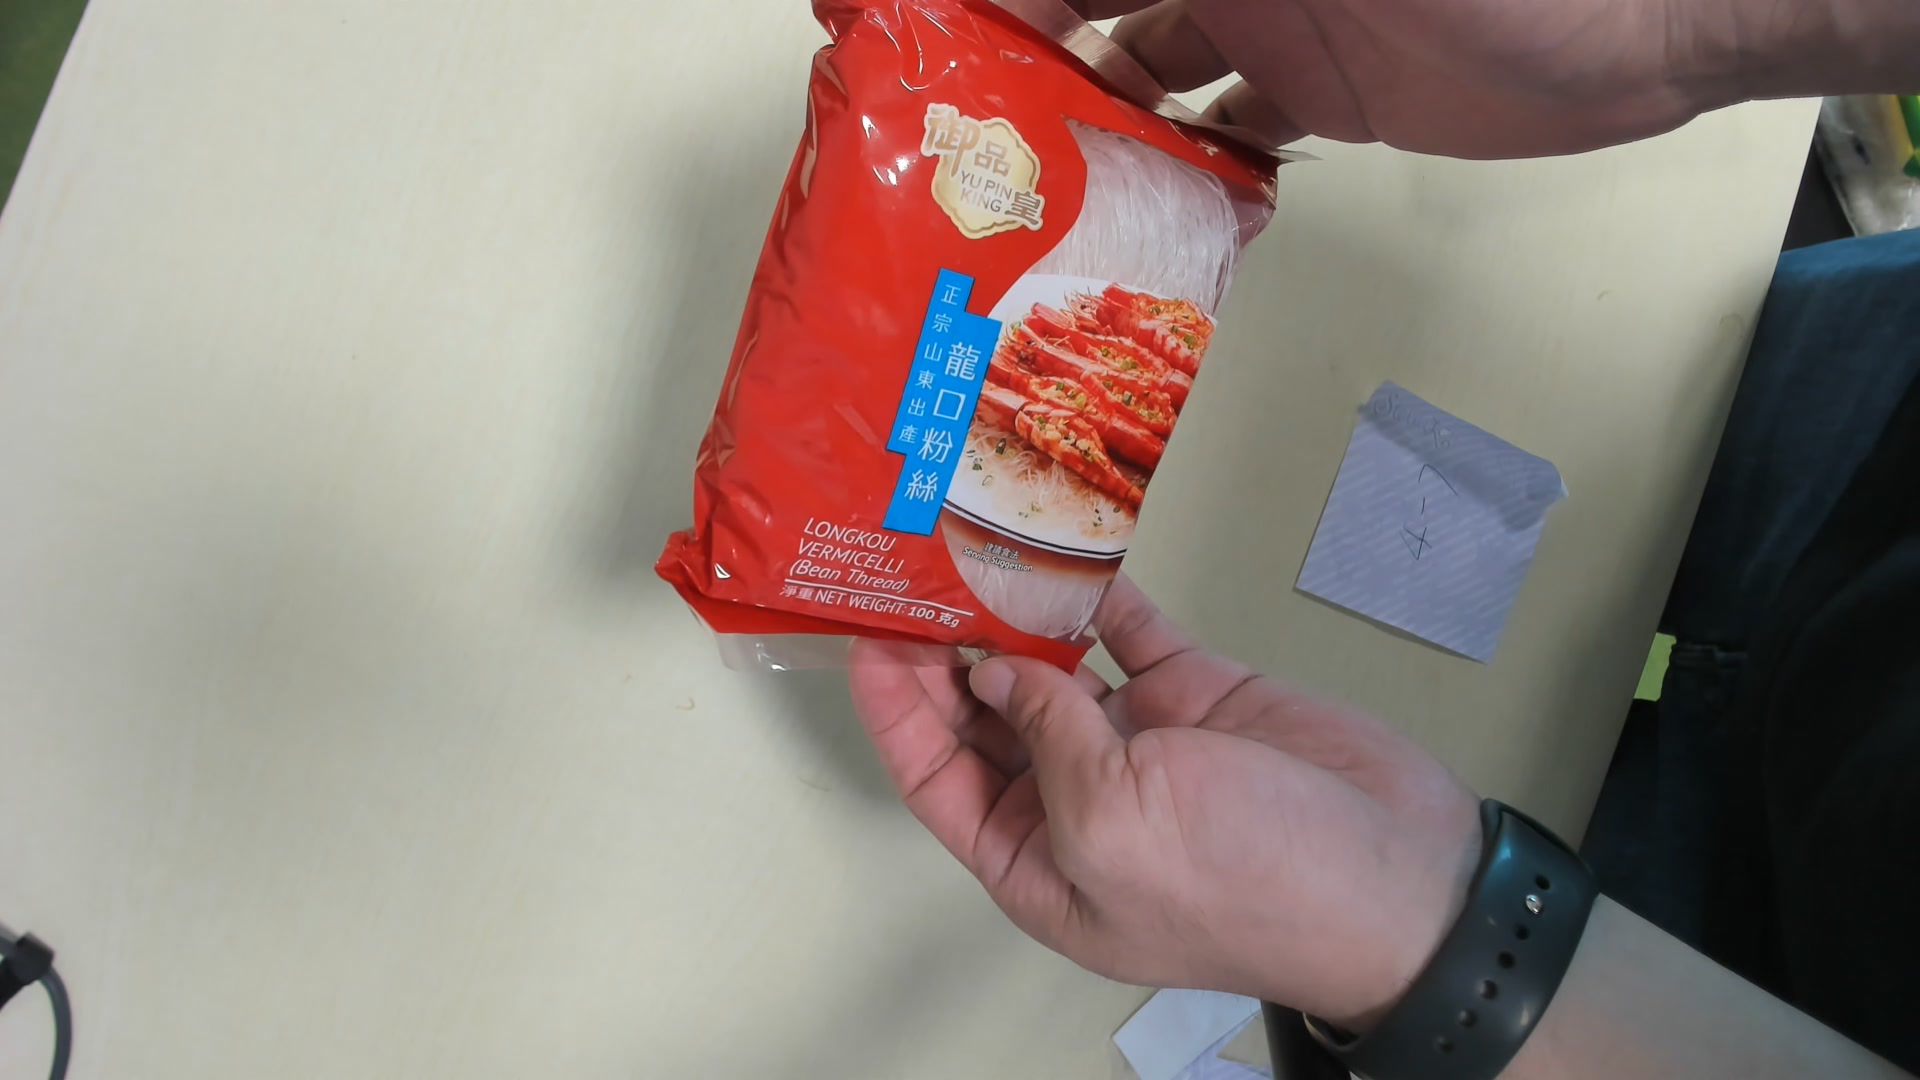BeeHoonVermicelli_100-199g_NonHalal_NonHealthy: (661, 24, 1287, 676)
